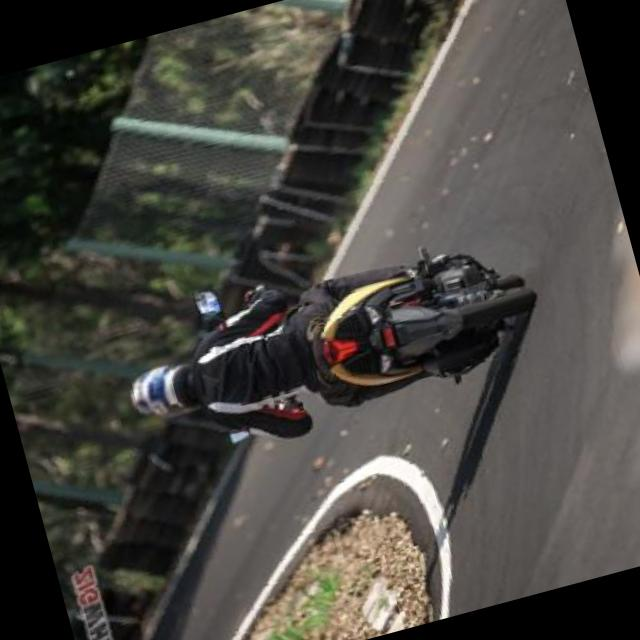With Helmet: (108, 344, 210, 439)
